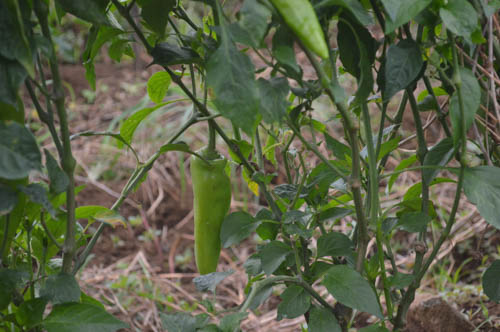ChiliPepper: (186, 152, 230, 279), (287, 3, 330, 58)
